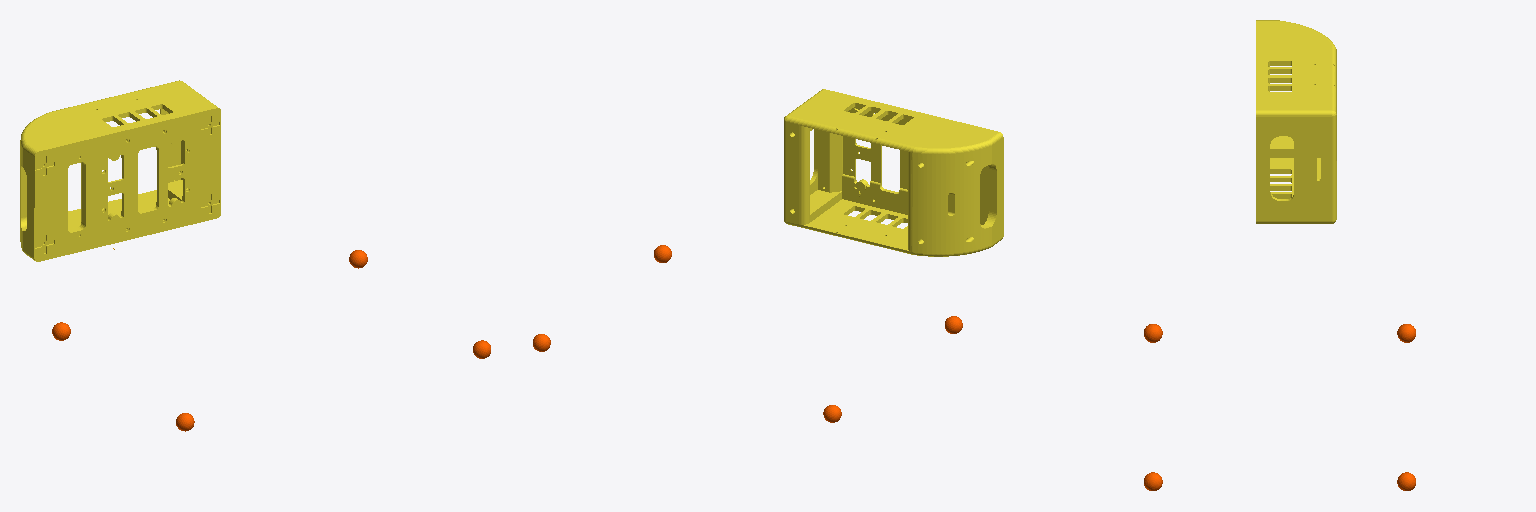
URDF robot description (a1_description):
<?xml version="1.0" ?>
<!-- =================================================================================== -->
<!-- |    This document was autogenerated by xacro from robot.xacro                    | -->
<!-- |    EDITING THIS FILE BY HAND IS NOT RECOMMENDED                                 | -->
<!-- =================================================================================== -->
<robot name="a1_description" xmlns:xacro="http://www.ros.org/wiki/xacro">
  <material name="black">
    <color rgba="0.0 0.0 0.0 1.0"/>
  </material>
  <material name="blue">
    <color rgba="0.0 0.0 0.8 1.0"/>
  </material>
  <material name="green">
    <color rgba="0.0 0.8 0.0 1.0"/>
  </material>
  <material name="grey">
    <color rgba="0.2 0.2 0.2 1.0"/>
  </material>
  <material name="silver">
    <color rgba="0.913725490196 0.913725490196 0.847058823529 1.0"/>
  </material>
  <material name="orange">
    <color rgba="1.0 0.423529411765 0.0392156862745 1.0"/>
  </material>
  <material name="brown">
    <color rgba="0.870588235294 0.811764705882 0.764705882353 1.0"/>
  </material>
  <material name="red">
    <color rgba="0.8 0.0 0.0 1.0"/>
  </material>
  <material name="white">
    <color rgba="1.0 1.0 1.0 1.0"/>
  </material>
  <link name="base">
    <visual>
      <origin rpy="0 0 0" xyz="0 0 0"/>
      <geometry>
        <box size="0.001 0.001 0.001"/>
      </geometry>
    </visual>
  </link>
  <joint name="floating_base" type="fixed">
    <origin rpy="0 0 0" xyz="0 0 0"/>
    <parent link="base"/>
    <child link="trunk"/>
  </joint>


  <link name="trunk">
    <visual>
      <origin rpy="0 0 0" xyz="0 0 0"/>
      <geometry>
        <mesh filename="../meshes/trunk.dae" scale="1 1 1"/>
      </geometry>
      <material name="orange"/>
    </visual>
    <collision>
      <origin rpy="0 0 0" xyz="0 0 0"/>
      <geometry>
        <box size="0.267 0.194 0.114"/>
      </geometry>
    </collision>
    <inertial>
      <origin rpy="0 0 0" xyz="0.012731 0.002186 0.000515"/>
      <mass value="4.713"/>
      <inertia ixx="0.01683993" ixy="8.3902e-05" ixz="0.000597679" iyy="0.056579028" iyz="2.5134e-05" izz="0.064713601"/>
    </inertial>
  </link>

  <link name="head">
    <visual>
    </visual>
    <collision>
      <origin rpy="0 0 0" xyz="0 0 0"/>
      <geometry>
        <box size="0.15 0.2 0.10"/>
      </geometry>
    </collision>
    <inertial>
    </inertial>
  </link>

  <joint name="head_joint" type="fixed">
    <parent link="trunk"/>
    <child link="head"/>
    <origin rpy="0 0 0" xyz="0.2 0 0"/>
  </joint>


  <joint name="imu_joint" type="fixed">
    <parent link="trunk"/>
    <child link="imu_link"/>
    <origin rpy="0 0 0" xyz="0 0 0"/>
  </joint>

  <link name="a1_back_protector">
    <visual>
      <origin rpy="-1.5707 0 0" xyz="0 0 0"/>
      <geometry>
        <mesh filename="../meshes/a1_port_protector.stl" scale="1 1 1"/>
      </geometry>
    </visual>
    <collision>
      <origin rpy="0 0 0" xyz="0 0 0"/>
      <geometry>
        <mesh filename="../meshes/a1_port_protector.stl" scale="1 1 1"/>
      </geometry>
    </collision>
    <inertial>
      <origin rpy="0 0 0" xyz="0 0 0"/>
      <mass value="1.7"/>
      <inertia ixx="1.0" ixy="0" ixz="0" iyy="1.0" iyz="0" izz="1.0"/>
    </inertial>
  </link>

  <joint name="trunk_to_back_protector" type="fixed">
    <origin rpy="0 0 0" xyz="0 0 0.085"/>
    <parent link="trunk"/>
    <child link="a1_back_protector"/>
  </joint>

  <link name="imu_link">
    <inertial>
      <mass value="0.001"/>
      <origin rpy="0 0 0" xyz="0 0 0"/>
      <inertia ixx="0.0001" ixy="0" ixz="0" iyy="0.0001" iyz="0" izz="0.0001"/>
    </inertial>
    <visual>
      <origin rpy="0 0 0" xyz="0 0 0"/>
      <geometry>
        <box size="0.001 0.001 0.001"/>
      </geometry>
      <material name="red"/>
    </visual>
    <!-- <collision>
      <origin rpy="0 0 0" xyz="0 0 0"/>
      <geometry>
        <box size=".001 .001 .001"/>
      </geometry>
    </collision>
    -->
  </link>
  <joint name="FR_hip_joint" type="revolute">
    <origin rpy="0 0 0" xyz="0.183 -0.047 0"/>
    <parent link="trunk"/>
    <child link="FR_hip"/>
    <axis xyz="1 0 0"/>
    <dynamics damping="0" friction="0"/>
    <limit effort="33.5" lower="-0.802851455917" upper="0.802851455917" velocity="21"/>
  </joint>
  <link name="FR_hip">
    <visual>
      <origin rpy="3.14159265359 0 0" xyz="0 0 0"/>
      <geometry>
        <mesh filename="../meshes/hip.dae" scale="1 1 1"/>
      </geometry>
      <material name="orange"/>
    </visual>
    <!--
    <collision>
      <origin rpy="1.57079632679 0 0" xyz="0 0 0"/>
      <geometry>
        <cylinder length="0.04" radius="0.046"/>
      </geometry>
    </collision>
    -->
    <inertial>
      <origin rpy="0 0 0" xyz="-0.003311 -0.000635 3.1e-05"/>
      <mass value="0.696"/>
      <inertia ixx="0.000469246" ixy="9.409e-06" ixz="-3.42e-07" iyy="0.00080749" iyz="4.66e-07" izz="0.000552929"/>
    </inertial>
  </link>
  <joint name="FR_hip_fixed" type="fixed">
    <origin rpy="0 0 0" xyz="0 -0.081 0"/>
    <parent link="FR_hip"/>
    <child link="FR_thigh_shoulder"/>
  </joint>
  <!-- this link is only for collision -->
  <link name="FR_thigh_shoulder">
    <!--
    <collision>
      <origin rpy="1.57079632679 0 0" xyz="0 0 0"/>
      <geometry>
        <cylinder length="0.032" radius="0.041"/>
      </geometry>
    </collision>
    -->
  </link>
  <joint name="FR_thigh_joint" type="revolute">
    <origin rpy="0 0 0" xyz="0 -0.08505 0"/>
    <parent link="FR_hip"/>
    <child link="FR_thigh"/>
    <axis xyz="0 1 0"/>
    <dynamics damping="0" friction="0"/>
    <limit effort="33.5" lower="-1.0471975512" upper="4.18879020479" velocity="21"/>
  </joint>
  <link name="FR_thigh">
    <visual>
      <origin rpy="0 0 0" xyz="0 0 0"/>
      <geometry>
        <mesh filename="../meshes/thigh_mirror.dae" scale="1 1 1"/>
      </geometry>
      <material name="orange"/>
    </visual>
    <collision>
      <origin rpy="0 1.57079632679 0" xyz="0 0 -0.1"/>
      <geometry>
        <box size="0.2 0.0245 0.034"/>
      </geometry>
    </collision>
    <inertial>
      <origin rpy="0 0 0" xyz="-0.003237 0.022327 -0.027326"/>
      <mass value="1.013"/>
      <inertia ixx="0.005529065" ixy="-4.825e-06" ixz="0.000343869" iyy="0.005139339" iyz="-2.2448e-05" izz="0.001367788"/>
    </inertial>
  </link>
  <joint name="FR_calf_joint" type="revolute">
    <origin rpy="0 0 0" xyz="0 0 -0.2"/>
    <parent link="FR_thigh"/>
    <child link="FR_calf"/>
    <axis xyz="0 1 0"/>
    <dynamics damping="0" friction="0"/>
    <limit effort="33.5" lower="-2.69653369433" upper="-0.916297857297" velocity="21"/>
  </joint>
  <link name="FR_calf">
    <visual>
      <origin rpy="0 0 0" xyz="0 0 0"/>
      <geometry>
        <mesh filename="../meshes/calf.dae" scale="1 1 1"/>
      </geometry>
      <material name="orange"/>
    </visual>
    <collision>
      <origin rpy="0 1.57079632679 0" xyz="0 0 -0.1"/>
      <geometry>
        <box size="0.2 0.016 0.016"/>
      </geometry>
    </collision>
    <inertial>
      <origin rpy="0 0 0" xyz="0.006435 0.0 -0.107388"/>
      <mass value="0.166"/>
      <inertia ixx="0.002997972" ixy="0.0" ixz="-0.000141163" iyy="0.003014022" iyz="0.0" izz="3.2426e-05"/>
    </inertial>
  </link>
  <joint name="FR_foot_fixed" type="fixed" dont_collapse="true">
    <origin rpy="0 0 0" xyz="0 0 -0.2"/>
    <parent link="FR_calf"/>
    <child link="FR_foot"/>
  </joint>
  <link name="FR_foot">
    <visual>
      <origin rpy="0 0 0" xyz="0 0 0"/>
      <geometry>
        <sphere radius="0.01"/>
      </geometry>
      <material name="orange"/>
    </visual>
    <collision>
      <origin rpy="0 0 0" xyz="0 0 0"/>
      <geometry>
        <sphere radius="0.02"/>
      </geometry>
    </collision>
    <inertial>
      <mass value="0.06"/>
      <inertia ixx="9.6e-06" ixy="0.0" ixz="0.0" iyy="9.6e-06" iyz="0.0" izz="9.6e-06"/>
    </inertial>
  </link>

  <joint name="FL_hip_joint" type="revolute">
    <origin rpy="0 0 0" xyz="0.183 0.047 0"/>
    <parent link="trunk"/>
    <child link="FL_hip"/>
    <axis xyz="1 0 0"/>
    <dynamics damping="0" friction="0"/>
    <limit effort="33.5" lower="-0.802851455917" upper="0.802851455917" velocity="21"/>
  </joint>
  <link name="FL_hip">
    <visual>
      <origin rpy="0 0 0" xyz="0 0 0"/>
      <geometry>
        <mesh filename="../meshes/hip.dae" scale="1 1 1"/>
      </geometry>
      <material name="orange"/>
    </visual>
    <!--
    <collision>
      <origin rpy="1.57079632679 0 0" xyz="0 0 0"/>
      <geometry>
        <cylinder length="0.04" radius="0.046"/>
      </geometry>
    </collision> -->
    <inertial>
      <origin rpy="0 0 0" xyz="-0.003311 0.000635 3.1e-05"/>
      <mass value="0.696"/>
      <inertia ixx="0.000469246" ixy="-9.409e-06" ixz="-3.42e-07" iyy="0.00080749" iyz="-4.66e-07" izz="0.000552929"/>
    </inertial>
  </link>
  <joint name="FL_hip_fixed" type="fixed">
    <origin rpy="0 0 0" xyz="0 0.081 0"/>
    <parent link="FL_hip"/>
    <child link="FL_thigh_shoulder"/>
  </joint>
  <!-- this link is only for collision -->
  <link name="FL_thigh_shoulder">
    <!-- <collision>
      <origin rpy="1.57079632679 0 0" xyz="0 0 0"/>
      <geometry>
        <cylinder length="0.032" radius="0.041"/>
      </geometry>
    </collision> -->
  </link>
  <joint name="FL_thigh_joint" type="revolute">
    <origin rpy="0 0 0" xyz="0 0.08505 0"/>
    <parent link="FL_hip"/>
    <child link="FL_thigh"/>
    <axis xyz="0 1 0"/>
    <dynamics damping="0" friction="0"/>
    <limit effort="33.5" lower="-1.0471975512" upper="4.18879020479" velocity="21"/>
  </joint>
  <link name="FL_thigh">
    <visual>
      <origin rpy="0 0 0" xyz="0 0 0"/>
      <geometry>
        <mesh filename="../meshes/thigh.dae" scale="1 1 1"/>
      </geometry>
      <material name="orange"/>
    </visual>
    <collision>
      <origin rpy="0 1.57079632679 0" xyz="0 0 -0.1"/>
      <geometry>
        <box size="0.2 0.0245 0.034"/>
      </geometry>
    </collision>
    <inertial>
      <origin rpy="0 0 0" xyz="-0.003237 -0.022327 -0.027326"/>
      <mass value="1.013"/>
      <inertia ixx="0.005529065" ixy="4.825e-06" ixz="0.000343869" iyy="0.005139339" iyz="2.2448e-05" izz="0.001367788"/>
    </inertial>
  </link>
  <joint name="FL_calf_joint" type="revolute">
    <origin rpy="0 0 0" xyz="0 0 -0.2"/>
    <parent link="FL_thigh"/>
    <child link="FL_calf"/>
    <axis xyz="0 1 0"/>
    <dynamics damping="0" friction="0"/>
    <limit effort="33.5" lower="-2.69653369433" upper="-0.916297857297" velocity="21"/>
  </joint>
  <link name="FL_calf">
    <visual>
      <origin rpy="0 0 0" xyz="0 0 0"/>
      <geometry>
        <mesh filename="../meshes/calf.dae" scale="1 1 1"/>
      </geometry>
      <material name="orange"/>
    </visual>
    <collision>
      <origin rpy="0 1.57079632679 0" xyz="0 0 -0.1"/>
      <geometry>
        <box size="0.2 0.016 0.016"/>
      </geometry>
    </collision>
    <inertial>
      <origin rpy="0 0 0" xyz="0.006435 0.0 -0.107388"/>
      <mass value="0.166"/>
      <inertia ixx="0.002997972" ixy="0.0" ixz="-0.000141163" iyy="0.003014022" iyz="0.0" izz="3.2426e-05"/>
    </inertial>
  </link>
  <joint name="FL_foot_fixed" type="fixed" dont_collapse="true">
    <origin rpy="0 0 0" xyz="0 0 -0.2"/>
    <parent link="FL_calf"/>
    <child link="FL_foot"/>
  </joint>
  <link name="FL_foot">
    <visual>
      <origin rpy="0 0 0" xyz="0 0 0"/>
      <geometry>
        <sphere radius="0.01"/>
      </geometry>
      <material name="orange"/>
    </visual>
    <collision>
      <origin rpy="0 0 0" xyz="0 0 0"/>
      <geometry>
        <sphere radius="0.02"/>
      </geometry>
    </collision>
    <inertial>
      <mass value="0.06"/>
      <inertia ixx="9.6e-06" ixy="0.0" ixz="0.0" iyy="9.6e-06" iyz="0.0" izz="9.6e-06"/>
    </inertial>
  </link>

  <joint name="RR_hip_joint" type="revolute">
    <origin rpy="0 0 0" xyz="-0.183 -0.047 0"/>
    <parent link="trunk"/>
    <child link="RR_hip"/>
    <axis xyz="1 0 0"/>
    <dynamics damping="0" friction="0"/>
    <limit effort="33.5" lower="-0.802851455917" upper="0.802851455917" velocity="21"/>
  </joint>
  <link name="RR_hip">
    <visual>
      <origin rpy="3.14159265359 3.14159265359 0" xyz="0 0 0"/>
      <geometry>
        <mesh filename="../meshes/hip.dae" scale="1 1 1"/>
      </geometry>
      <material name="orange"/>
    </visual>
    <!-- <collision>
      <origin rpy="1.57079632679 0 0" xyz="0 0 0"/>
      <geometry>
        <cylinder length="0.04" radius="0.046"/>
      </geometry>
    </collision> -->
    <inertial>
      <origin rpy="0 0 0" xyz="0.003311 -0.000635 3.1e-05"/>
      <mass value="0.696"/>
      <inertia ixx="0.000469246" ixy="-9.409e-06" ixz="3.42e-07" iyy="0.00080749" iyz="4.66e-07" izz="0.000552929"/>
    </inertial>
  </link>
  <joint name="RR_hip_fixed" type="fixed">
    <origin rpy="0 0 0" xyz="0 -0.081 0"/>
    <parent link="RR_hip"/>
    <child link="RR_thigh_shoulder"/>
  </joint>
  <!-- this link is only for collision -->
  <link name="RR_thigh_shoulder">
    <!-- <collision>
      <origin rpy="1.57079632679 0 0" xyz="0 0 0"/>
      <geometry>
        <cylinder length="0.032" radius="0.041"/>
      </geometry>
    </collision> -->
  </link>
  <joint name="RR_thigh_joint" type="revolute">
    <origin rpy="0 0 0" xyz="0 -0.08505 0"/>
    <parent link="RR_hip"/>
    <child link="RR_thigh"/>
    <axis xyz="0 1 0"/>
    <dynamics damping="0" friction="0"/>
    <limit effort="33.5" lower="-1.0471975512" upper="4.18879020479" velocity="21"/>
  </joint>
  <link name="RR_thigh">
    <visual>
      <origin rpy="0 0 0" xyz="0 0 0"/>
      <geometry>
        <mesh filename="../meshes/thigh_mirror.dae" scale="1 1 1"/>
      </geometry>
      <material name="orange"/>
    </visual>
    <collision>
      <origin rpy="0 1.57079632679 0" xyz="0 0 -0.1"/>
      <geometry>
        <box size="0.2 0.0245 0.034"/>
      </geometry>
    </collision>
    <inertial>
      <origin rpy="0 0 0" xyz="-0.003237 0.022327 -0.027326"/>
      <mass value="1.013"/>
      <inertia ixx="0.005529065" ixy="-4.825e-06" ixz="0.000343869" iyy="0.005139339" iyz="-2.2448e-05" izz="0.001367788"/>
    </inertial>
  </link>
  <joint name="RR_calf_joint" type="revolute">
    <origin rpy="0 0 0" xyz="0 0 -0.2"/>
    <parent link="RR_thigh"/>
    <child link="RR_calf"/>
    <axis xyz="0 1 0"/>
    <dynamics damping="0" friction="0"/>
    <limit effort="33.5" lower="-2.69653369433" upper="-0.916297857297" velocity="21"/>
  </joint>
  <link name="RR_calf">
    <visual>
      <origin rpy="0 0 0" xyz="0 0 0"/>
      <geometry>
        <mesh filename="../meshes/calf.dae" scale="1 1 1"/>
      </geometry>
      <material name="orange"/>
    </visual>
    <collision>
      <origin rpy="0 1.57079632679 0" xyz="0 0 -0.1"/>
      <geometry>
        <box size="0.2 0.016 0.016"/>
      </geometry>
    </collision>
    <inertial>
      <origin rpy="0 0 0" xyz="0.006435 0.0 -0.107388"/>
      <mass value="0.166"/>
      <inertia ixx="0.002997972" ixy="0.0" ixz="-0.000141163" iyy="0.003014022" iyz="0.0" izz="3.2426e-05"/>
    </inertial>
  </link>
  <joint name="RR_foot_fixed" type="fixed" dont_collapse="true">
    <origin rpy="0 0 0" xyz="0 0 -0.2"/>
    <parent link="RR_calf"/>
    <child link="RR_foot"/>
  </joint>
  <link name="RR_foot">
    <visual>
      <origin rpy="0 0 0" xyz="0 0 0"/>
      <geometry>
        <sphere radius="0.01"/>
      </geometry>
      <material name="orange"/>
    </visual>
    <collision>
      <origin rpy="0 0 0" xyz="0 0 0"/>
      <geometry>
        <sphere radius="0.02"/>
      </geometry>
    </collision>
    <inertial>
      <mass value="0.06"/>
      <inertia ixx="9.6e-06" ixy="0.0" ixz="0.0" iyy="9.6e-06" iyz="0.0" izz="9.6e-06"/>
    </inertial>
  </link>

  <joint name="RL_hip_joint" type="revolute">
    <origin rpy="0 0 0" xyz="-0.183 0.047 0"/>
    <parent link="trunk"/>
    <child link="RL_hip"/>
    <axis xyz="1 0 0"/>
    <dynamics damping="0" friction="0"/>
    <limit effort="33.5" lower="-0.802851455917" upper="0.802851455917" velocity="21"/>
  </joint>
  <link name="RL_hip">
    <visual>
      <origin rpy="0 3.14159265359 0" xyz="0 0 0"/>
      <geometry>
        <mesh filename="../meshes/hip.dae" scale="1 1 1"/>
      </geometry>
      <material name="orange"/>
    </visual>
    <!-- <collision>
      <origin rpy="1.57079632679 0 0" xyz="0 0 0"/>
      <geometry>
        <cylinder length="0.04" radius="0.046"/>
      </geometry>
    </collision> -->
    <inertial>
      <origin rpy="0 0 0" xyz="0.003311 0.000635 3.1e-05"/>
      <mass value="0.696"/>
      <inertia ixx="0.000469246" ixy="9.409e-06" ixz="3.42e-07" iyy="0.00080749" iyz="-4.66e-07" izz="0.000552929"/>
    </inertial>
  </link>
  <joint name="RL_hip_fixed" type="fixed">
    <origin rpy="0 0 0" xyz="0 0.081 0"/>
    <parent link="RL_hip"/>
    <child link="RL_thigh_shoulder"/>
  </joint>
  <!-- this link is only for collision -->
  <link name="RL_thigh_shoulder">
    <!-- <collision>
      <origin rpy="1.57079632679 0 0" xyz="0 0 0"/>
      <geometry>
        <cylinder length="0.032" radius="0.041"/>
      </geometry>
    </collision> -->
  </link>
  <joint name="RL_thigh_joint" type="revolute">
    <origin rpy="0 0 0" xyz="0 0.08505 0"/>
    <parent link="RL_hip"/>
    <child link="RL_thigh"/>
    <axis xyz="0 1 0"/>
    <dynamics damping="0" friction="0"/>
    <limit effort="33.5" lower="-1.0471975512" upper="4.18879020479" velocity="21"/>
  </joint>
  <link name="RL_thigh">
    <visual>
      <origin rpy="0 0 0" xyz="0 0 0"/>
      <geometry>
        <mesh filename="../meshes/thigh.dae" scale="1 1 1"/>
      </geometry>
      <material name="orange"/>
    </visual>
    <collision>
      <origin rpy="0 1.57079632679 0" xyz="0 0 -0.1"/>
      <geometry>
        <box size="0.2 0.0245 0.034"/>
      </geometry>
    </collision>
    <inertial>
      <origin rpy="0 0 0" xyz="-0.003237 -0.022327 -0.027326"/>
      <mass value="1.013"/>
      <inertia ixx="0.005529065" ixy="4.825e-06" ixz="0.000343869" iyy="0.005139339" iyz="2.2448e-05" izz="0.001367788"/>
    </inertial>
  </link>
  <joint name="RL_calf_joint" type="revolute">
    <origin rpy="0 0 0" xyz="0 0 -0.2"/>
    <parent link="RL_thigh"/>
    <child link="RL_calf"/>
    <axis xyz="0 1 0"/>
    <dynamics damping="0" friction="0"/>
    <limit effort="33.5" lower="-2.69653369433" upper="-0.916297857297" velocity="21"/>
  </joint>
  <link name="RL_calf">
    <visual>
      <origin rpy="0 0 0" xyz="0 0 0"/>
      <geometry>
        <mesh filename="../meshes/calf.dae" scale="1 1 1"/>
      </geometry>
      <material name="orange"/>
    </visual>
    <collision>
      <origin rpy="0 1.57079632679 0" xyz="0 0 -0.1"/>
      <geometry>
        <box size="0.2 0.016 0.016"/>
      </geometry>
    </collision>
    <inertial>
      <origin rpy="0 0 0" xyz="0.006435 0.0 -0.107388"/>
      <mass value="0.166"/>
      <inertia ixx="0.002997972" ixy="0.0" ixz="-0.000141163" iyy="0.003014022" iyz="0.0" izz="3.2426e-05"/>
    </inertial>
  </link>
  <joint name="RL_foot_fixed" type="fixed" dont_collapse="true">
    <origin rpy="0 0 0" xyz="0 0 -0.2"/>
    <parent link="RL_calf"/>
    <child link="RL_foot"/>
  </joint>
  <link name="RL_foot">
    <visual>
      <origin rpy="0 0 0" xyz="0 0 0"/>
      <geometry>
        <sphere radius="0.01"/>
      </geometry>
      <material name="orange"/>
    </visual>
    <collision>
      <origin rpy="0 0 0" xyz="0 0 0"/>
      <geometry>
        <sphere radius="0.02"/>
      </geometry>
    </collision>
    <inertial>
      <mass value="0.06"/>
      <inertia ixx="9.6e-06" ixy="0.0" ixz="0.0" iyy="9.6e-06" iyz="0.0" izz="9.6e-06"/>
    </inertial>
  </link>

</robot>

--- Render facts (derived) ---
3 views of the same robot in one strip: view 1: azimuth 30°, elevation 25°; view 2: azimuth 150°, elevation 25°; view 3: azimuth 270°, elevation 25° (orthographic).
Robot: a1_description — 25 links, 24 joints (12 revolute, 12 fixed); root link base; default pose: joints at zero except 4 at the middle of their limits (FR_calf_joint = -1.81, FL_calf_joint = -1.81, RR_calf_joint = -1.81, RL_calf_joint = -1.81).
Visible links, largest first — view 1: a1_back_protector; view 2: a1_back_protector; view 3: a1_back_protector.
Boxes of the visible links, x1,y1,x2,y2 form: a1_back_protector: (20, 80, 220, 261); a1_back_protector: (784, 89, 1003, 256); a1_back_protector: (1256, 20, 1336, 223).
Bounding box of the posed robot: 0.5002 × 0.2841 × 0.3133 m (x, y, z).
Meshes: 6 distinct files referenced, 1 mesh visuals loaded (1 binary STL); not drawn: 13 (reference not matched to a file when rendering).